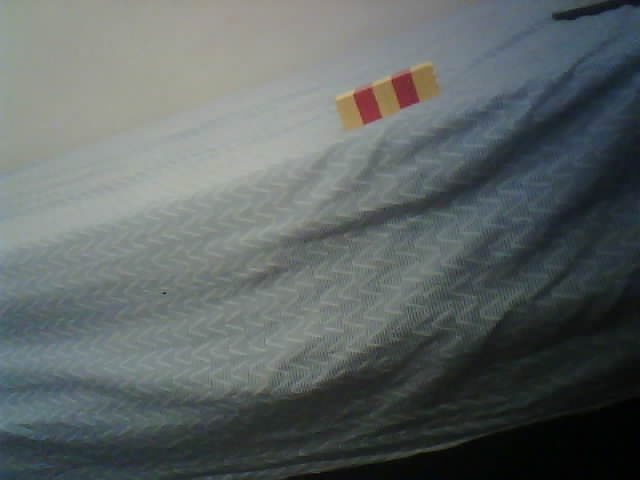lego: (335, 62, 440, 130)
